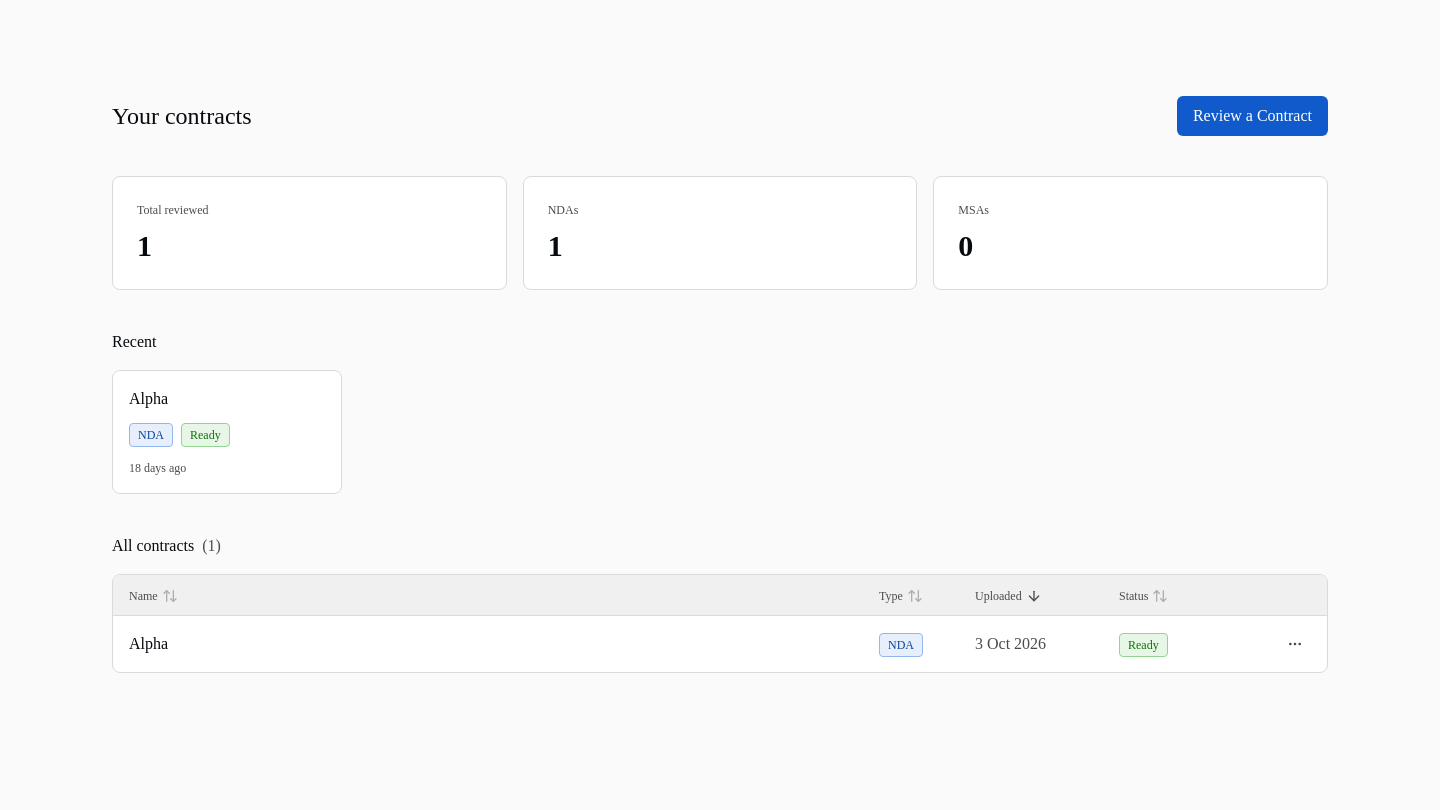
Test: Dashboard after deleting the last contract › returns to the empty state once the stats refetch
What coordinates should you click on to do the following:
click the button named "Actions for Alpha"
I would click on:
 (1295, 644)
Its box is [1279,628,1311,660].
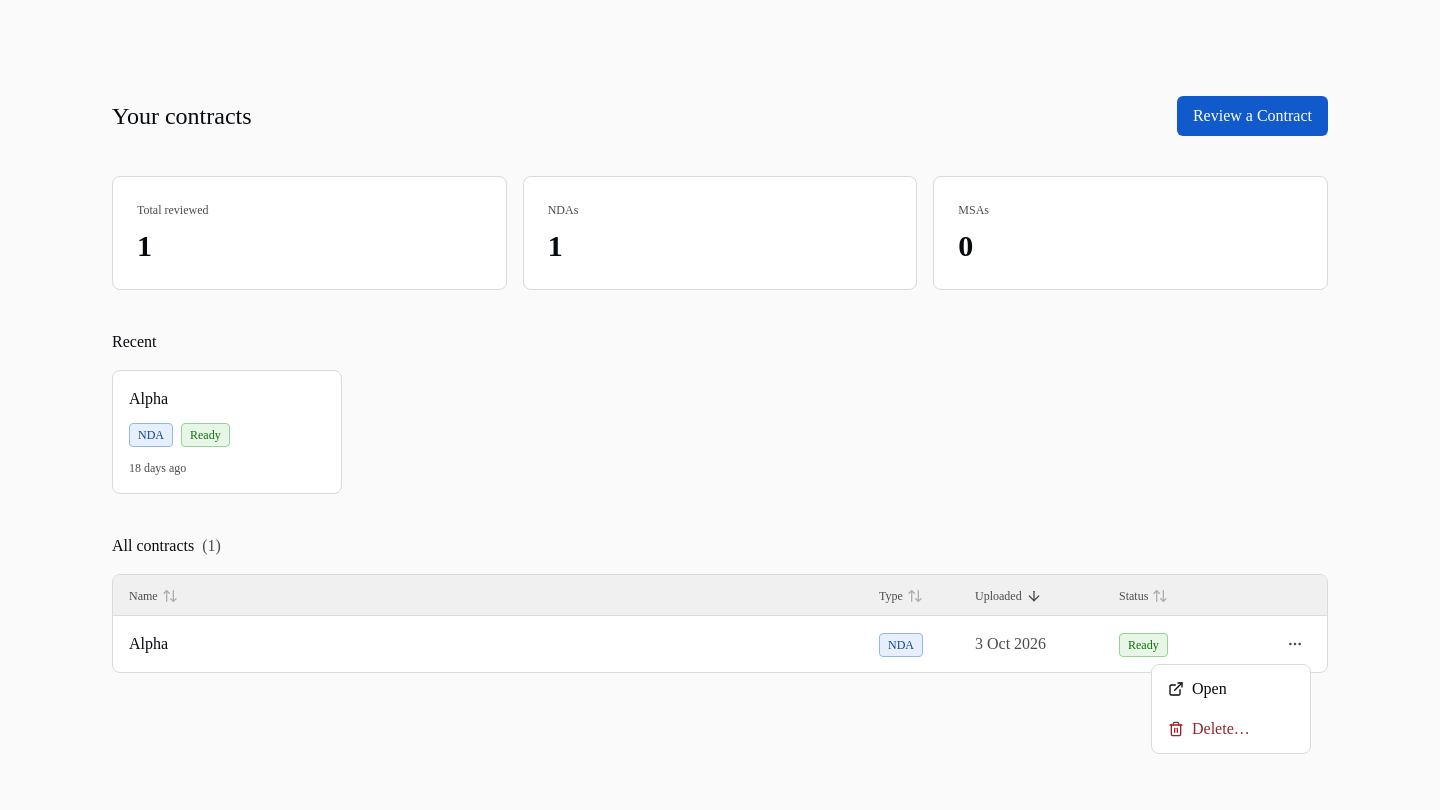
What coordinates should you click on to do the following:
click the menu item "Delete…"
I would click on:
 (1209, 728)
Its box is [1168,720,1250,737].
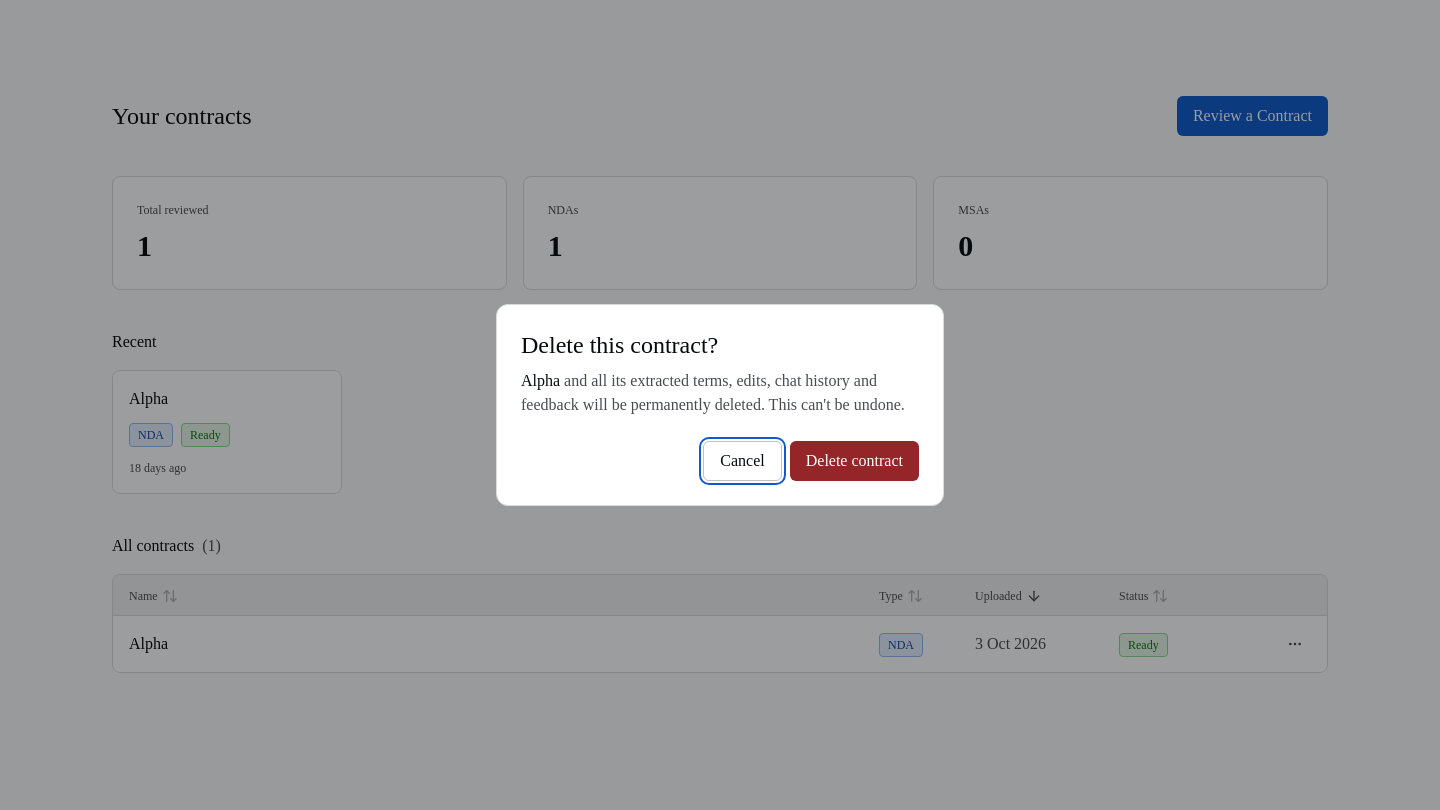
What coordinates should you click on to do the following:
click the button "Delete contract"
I would click on:
 (854, 461)
Its box is [790,441,919,481].
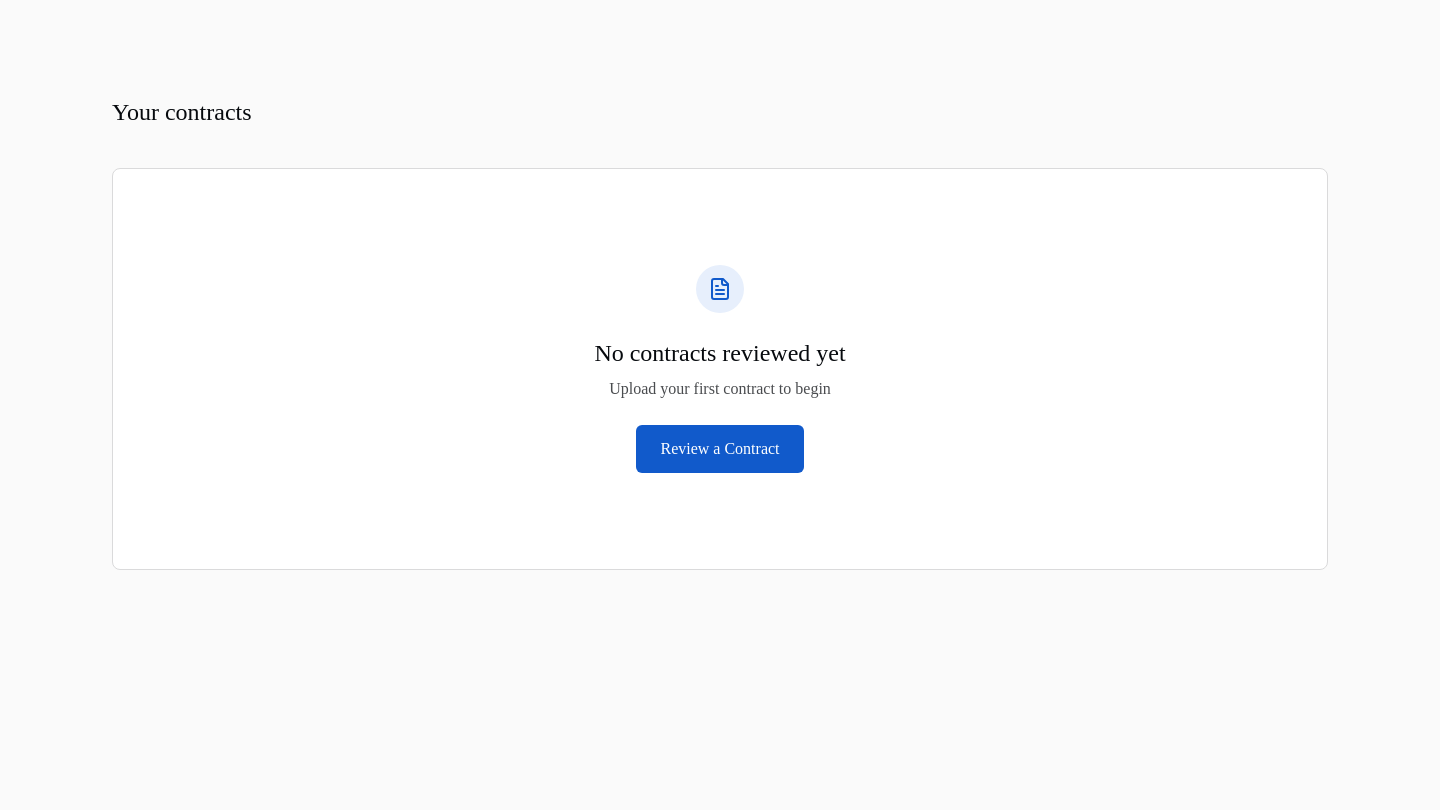
Expected: the heading "No contracts reviewed yet" is shown, [594,337,846,369]
